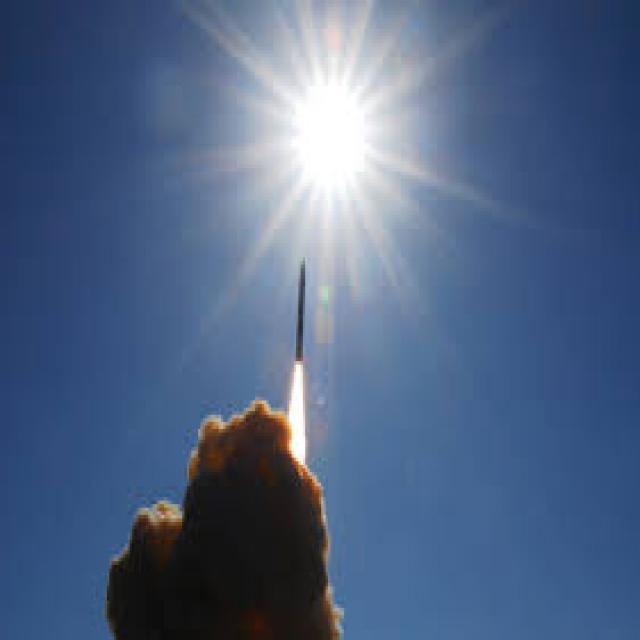Missile: (291, 252, 309, 367)
